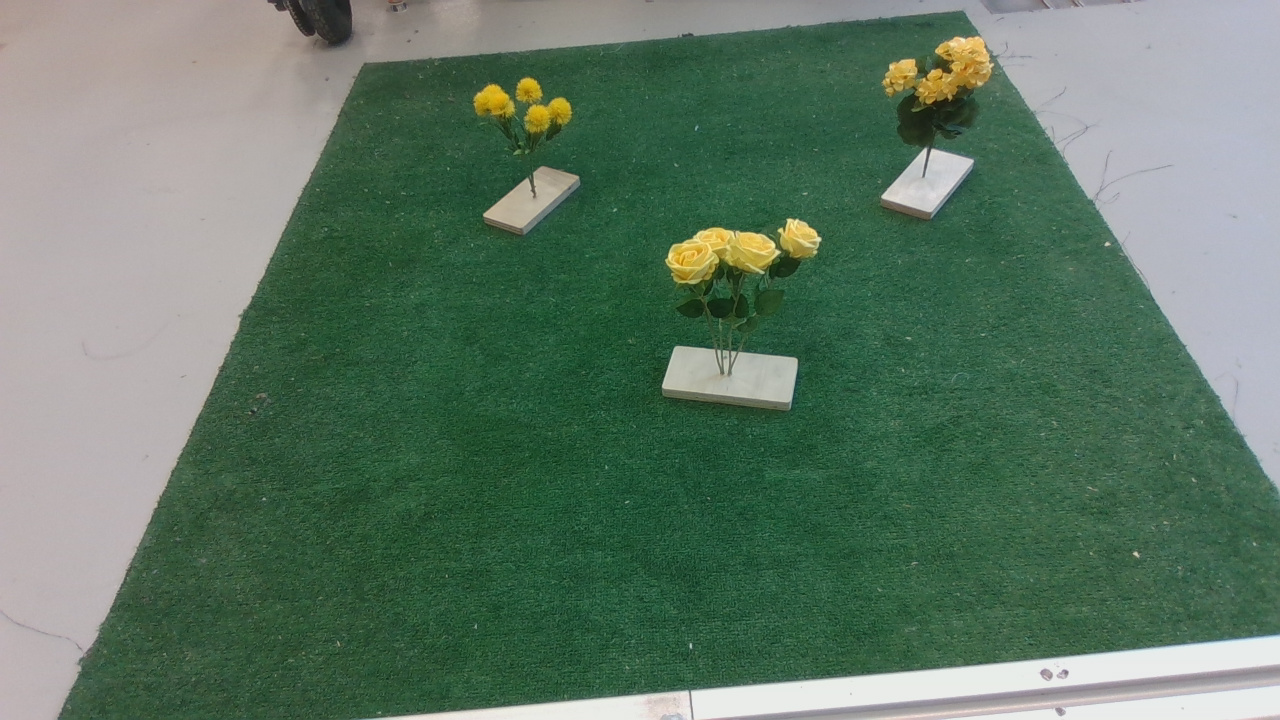dandelion: (469, 77, 586, 164)
geranium: (883, 34, 999, 156)
rose: (662, 211, 833, 343)
